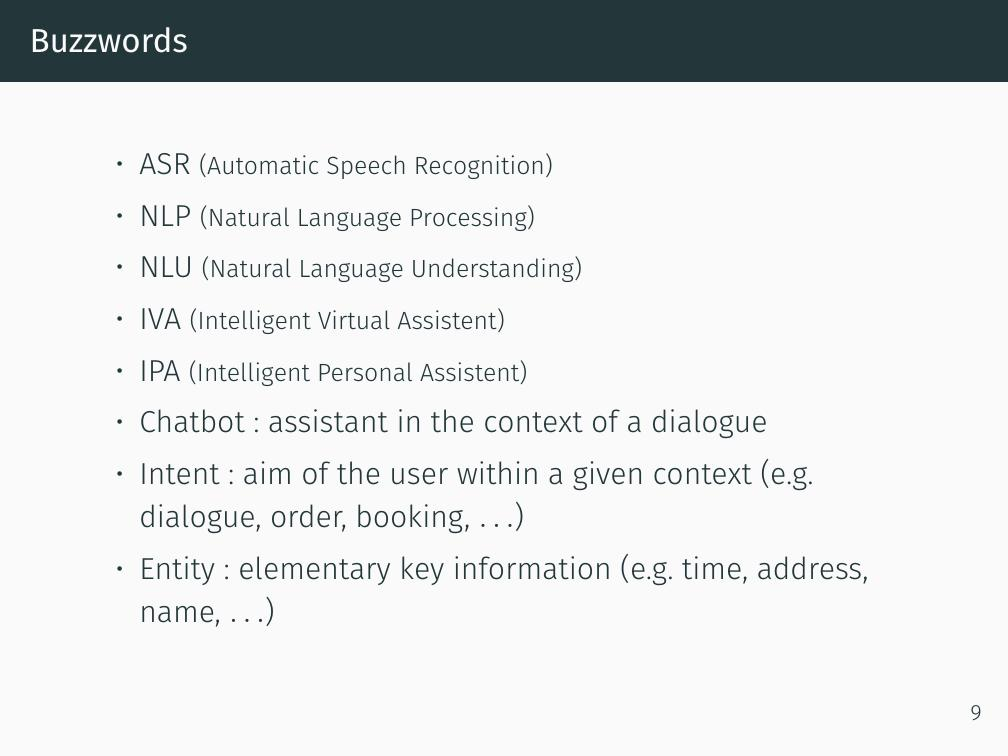Title: (27, 17, 200, 65)
